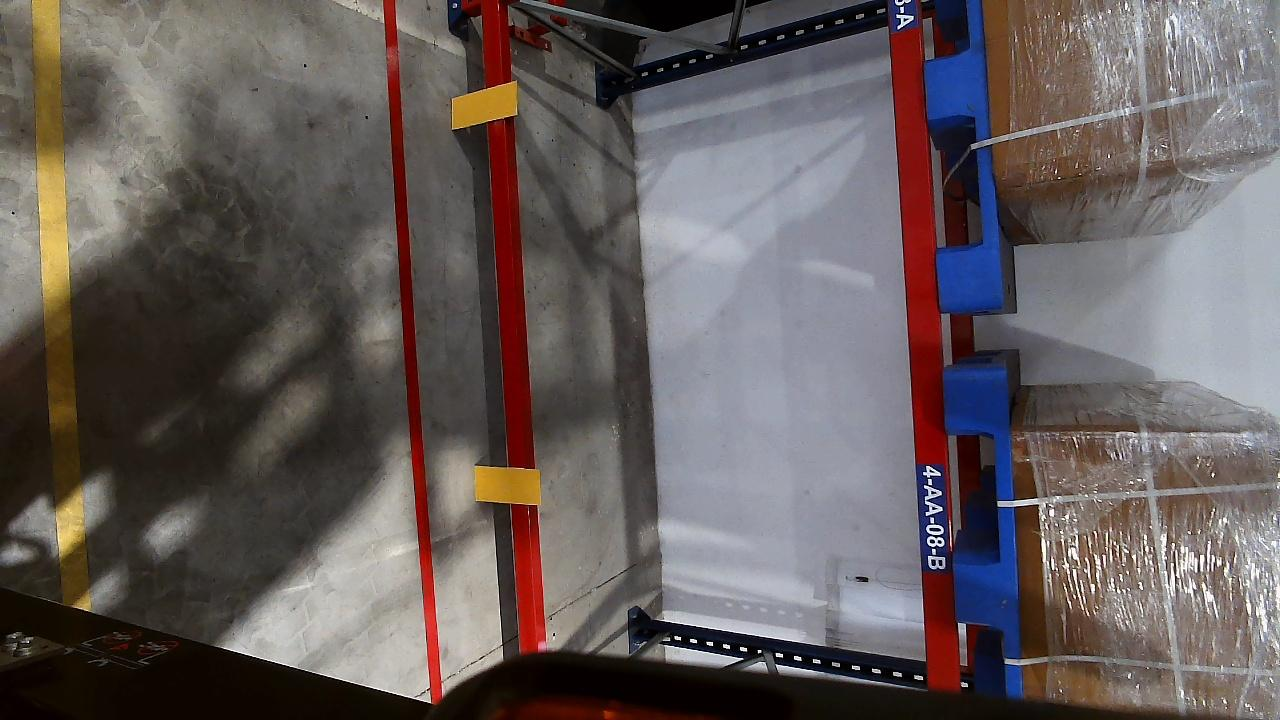h_rack: (472, 7, 560, 646), (883, 0, 954, 690)
orange_strip: (450, 82, 519, 129), (473, 466, 540, 505)
red_line: (375, 1, 449, 690)
small_pallet: (915, 0, 1008, 305), (942, 366, 1027, 691)
yellow_line: (13, 0, 92, 603)
